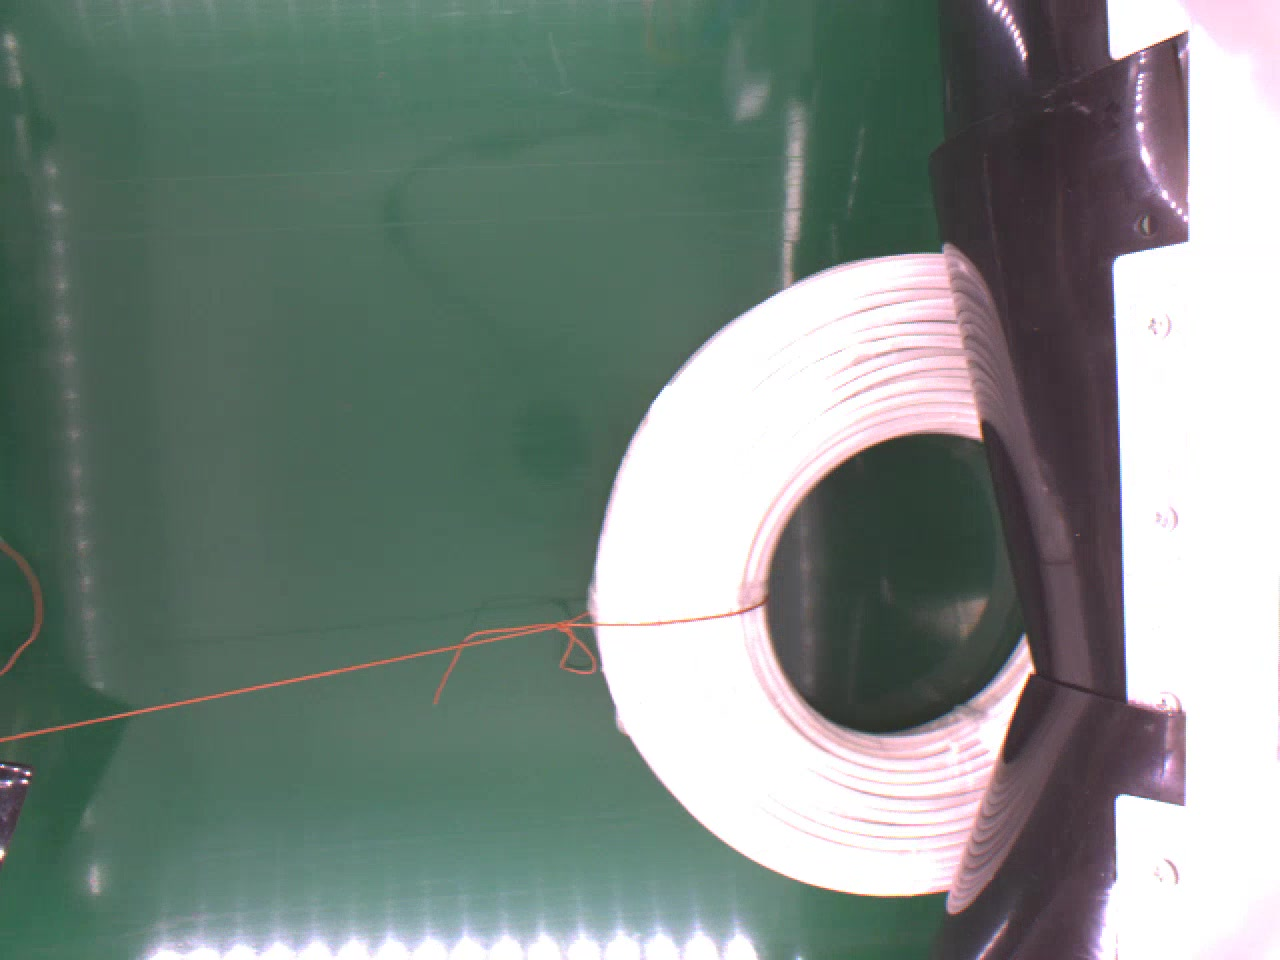white: (589, 254, 1030, 899)
